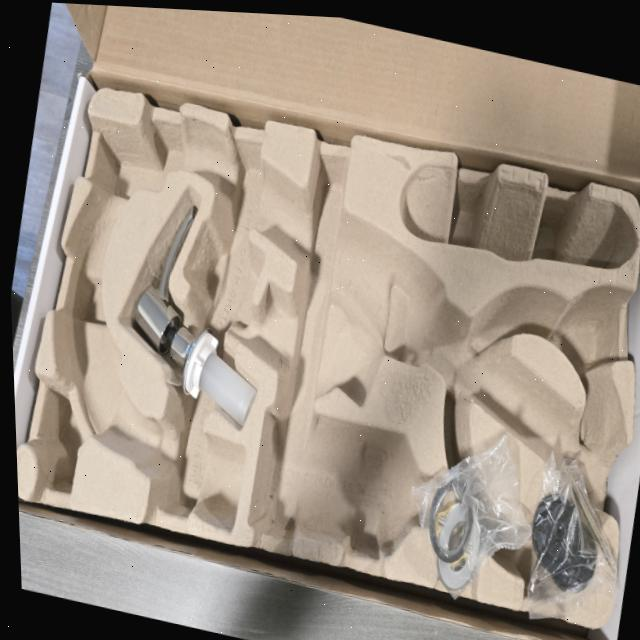1m: (57, 119, 625, 528)
2: (132, 204, 255, 427)
3m: (249, 412, 439, 554)
4m: (399, 163, 638, 267)
5m: (560, 295, 612, 370)
6: (410, 432, 534, 598)
7: (525, 447, 619, 620)
